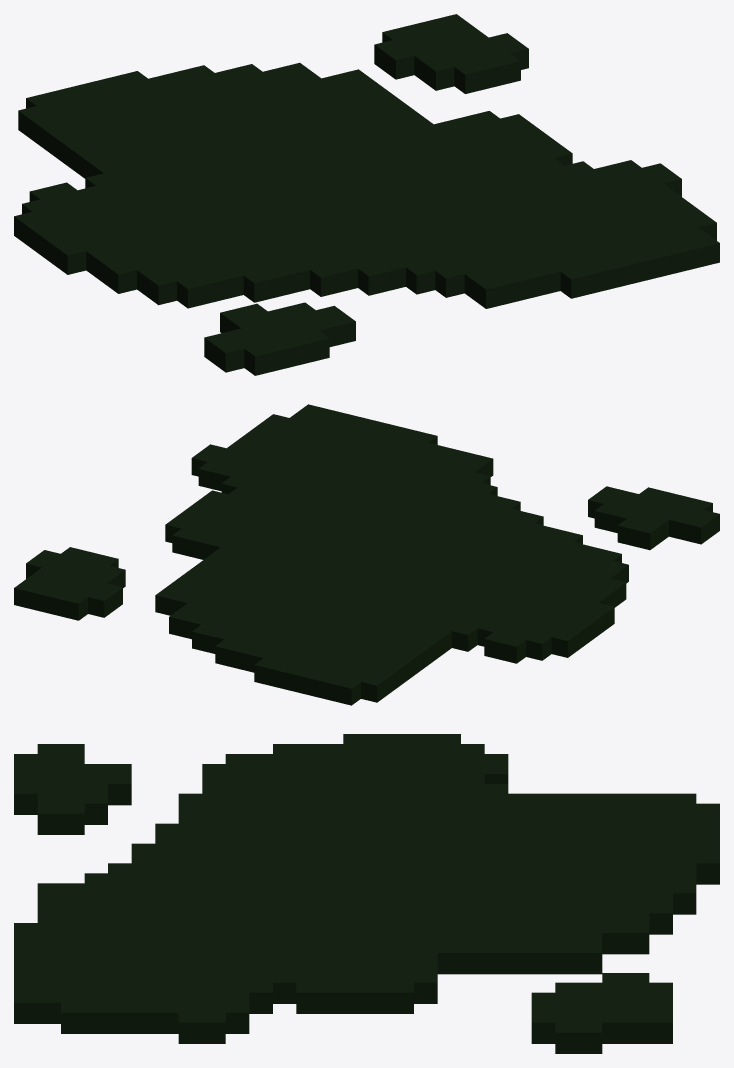
The model's file is Plama.dae.
3 views of the same model, one above another, from view 1: azimuth 30°, elevation 25°; view 2: azimuth 150°, elevation 25°; view 3: azimuth 270°, elevation 25° (orthographic). The views are drawn at different scales.
Parts seen in each view (by area): view 1: Plama; view 2: Plama; view 3: Plama.
Part boxes in pixels (x1,y1,x2,y2): Plama: [14, 14, 719, 375]; Plama: [14, 404, 719, 705]; Plama: [14, 734, 719, 1053].
Size of the model in its own units: 30 by 1 by 30.
1 material, 1 textured.
